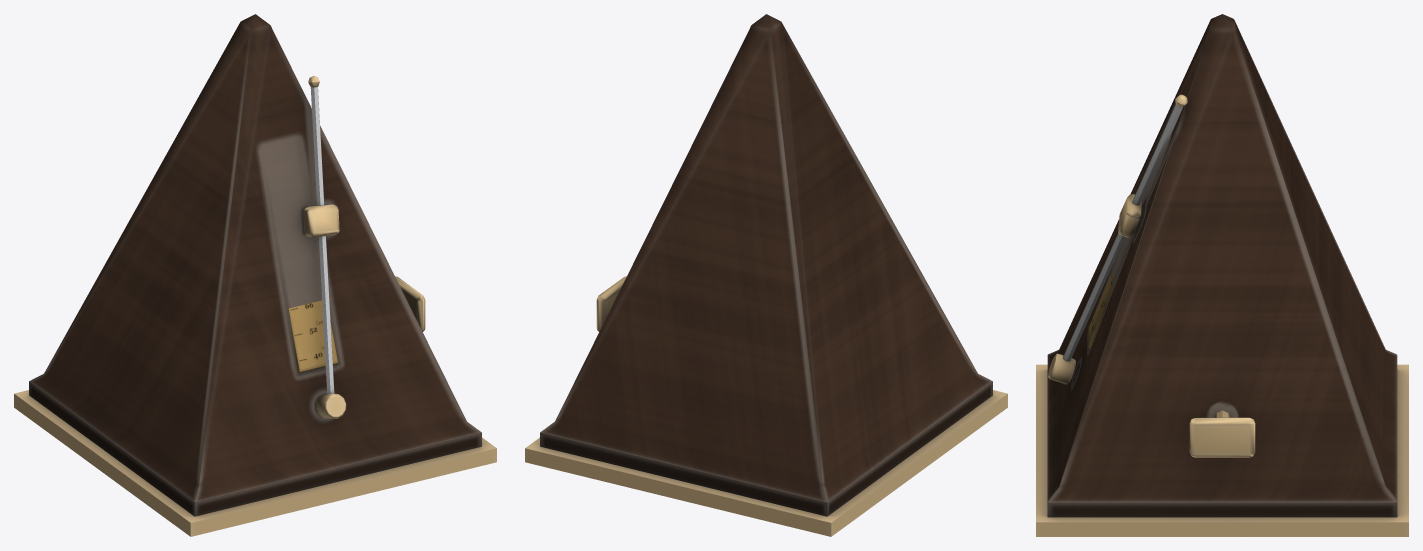
The model's file is Metronome.fbx.
3 views of the same model, side by side, from view 1: azimuth 30°, elevation 25°; view 2: azimuth 150°, elevation 25°; view 3: azimuth 270°, elevation 25° (orthographic). The views are drawn at different scales.
Parts seen in each view (by area): view 1: Metronome; view 2: Metronome; view 3: Metronome.
Boxes of the visible parts, x1,y1,x2,y2 form: Metronome: [14, 14, 496, 536]; Metronome: [525, 14, 1007, 536]; Metronome: [1036, 14, 1408, 536].
Bounding box in the file's own units: 69.24 × 90 × 68.49.
